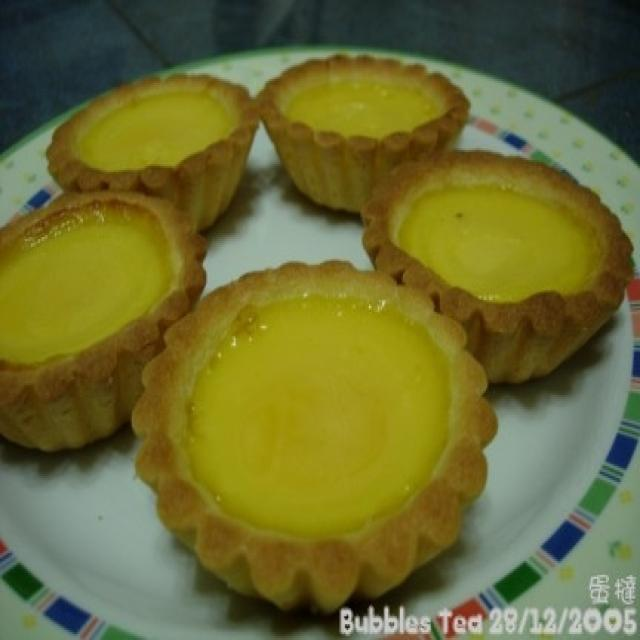炸货点心: (21, 42, 603, 610)
蛋糕甜品: (21, 42, 603, 610)
